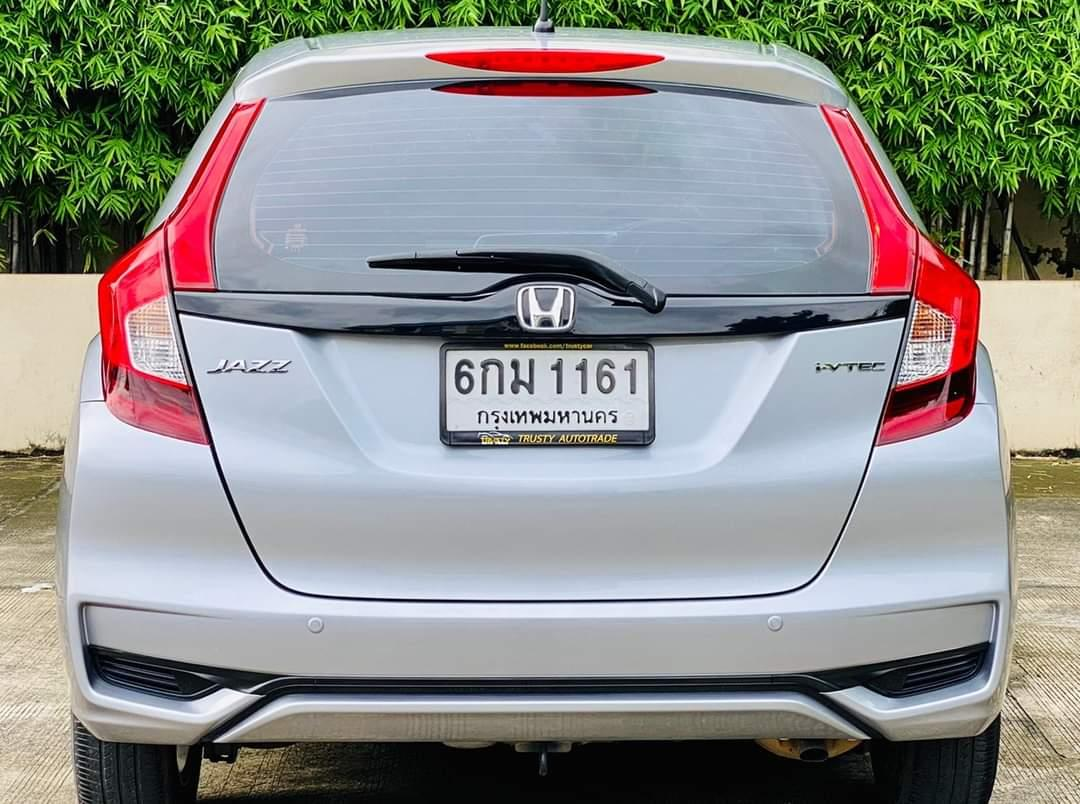license-plate: (437, 339, 655, 450)
